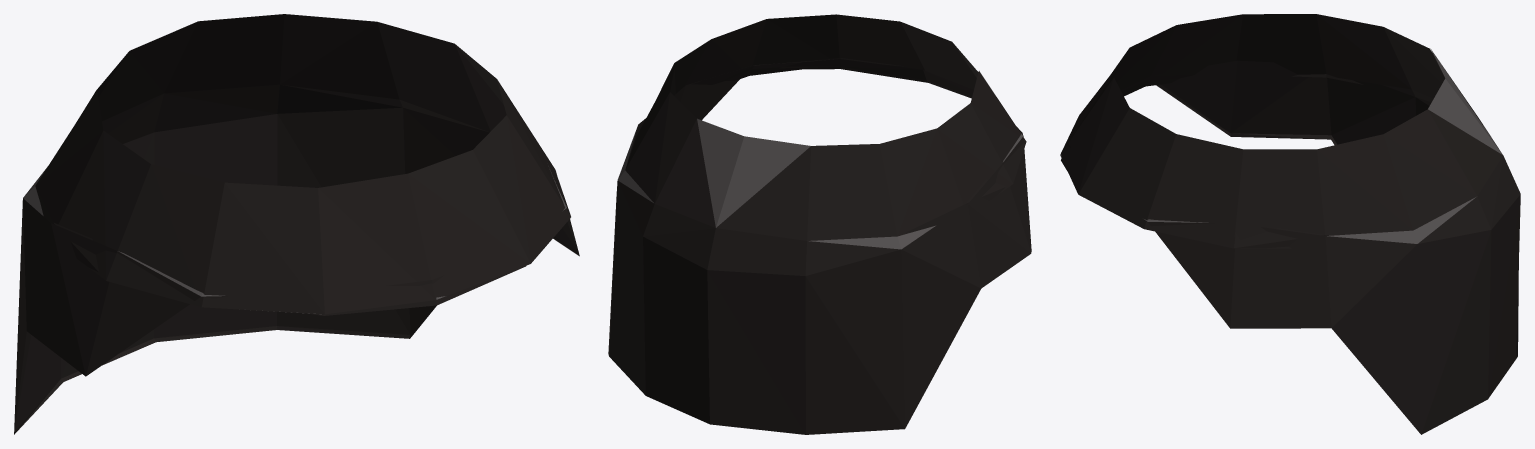
File: hair_buzz_01_hatcut.glb
The picture shows the model from 3 angles, left to right: view 1: azimuth 30°, elevation 25°; view 2: azimuth 150°, elevation 25°; view 3: azimuth 270°, elevation 25°; orthographic projection. The views are drawn at different scales.
Parts seen in each view (by area): view 1: hair_buzz_01_hatcut; view 2: hair_buzz_01_hatcut; view 3: hair_buzz_01_hatcut.
Boxes of the visible parts, x1,y1,x2,y2 form: hair_buzz_01_hatcut: [14, 14, 579, 434]; hair_buzz_01_hatcut: [608, 14, 1031, 434]; hair_buzz_01_hatcut: [1060, 14, 1520, 434].
Bounding box in the file's own units: 0.2648 × 0.1815 × 0.2689.
Materials: 1 (1 with a texture image).
